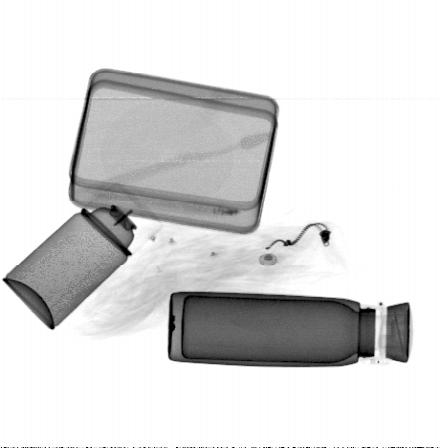Sprayer: (1, 183, 165, 333)
